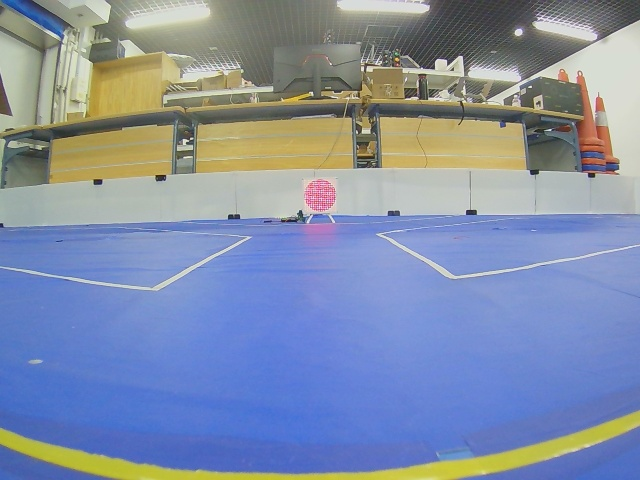red: (304, 179, 337, 213)
